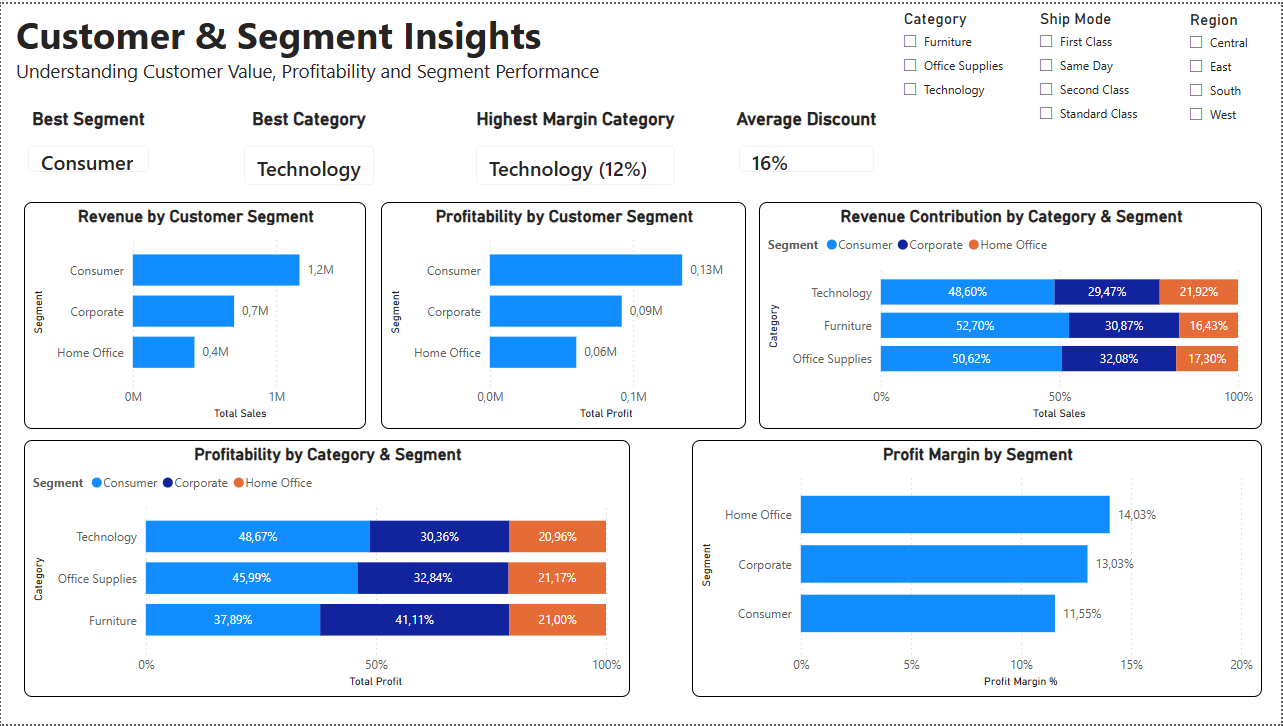

What the dashboard file says about the page in this screenshot:
{"tool":"powerbi","page":{"name":"Customer & Segment Insights","canvas":[1280,720],"ordinal":3},"visuals":[{"type":"textbox","box":[10,0,597.5,88.8],"z":0},{"type":"cardVisual","title":"Best Segment","fields":{"Data":["Min(SampleSuperstore.Segment)"]},"box":[10,103.8,155,81.2],"z":1000},{"type":"cardVisual","title":"Best Category","fields":{"Data":["Max(SampleSuperstore.Category)"]},"box":[226.2,103.8,163.8,93.8],"z":2000},{"type":"cardVisual","title":"Highest Margin Category","fields":{"Data":["SampleSuperstore.Highest Margin Category Display"]},"box":[457.5,103.8,233.8,93.8],"z":3000},{"type":"cardVisual","title":"Average Discount","fields":{"Data":["SampleSuperstore.Average Discount"]},"box":[721.2,103.8,168.8,81.2],"z":4000},{"type":"clusteredBarChart","title":"Revenue by Customer Segment","fields":{"Category":["SampleSuperstore.Segment"],"Y":["SampleSuperstore.Total Sales"]},"box":[22.5,197.5,342.5,227.5],"z":5000},{"type":"clusteredBarChart","title":"Profitability by Customer Segment","fields":{"Category":["SampleSuperstore.Segment"],"Y":["SampleSuperstore.Total Profit"]},"box":[380,197.5,365,227.5],"z":6000},{"type":"hundredPercentStackedBarChart","title":"Revenue Contribution by Category & Segment","fields":{"Category":["SampleSuperstore.Category"],"Y":["SampleSuperstore.Total Sales"],"Series":["SampleSuperstore.Segment"]},"box":[757.5,197.5,503.8,227.5],"z":7000},{"type":"hundredPercentStackedBarChart","title":"Profitability by Category & Segment","fields":{"Category":["SampleSuperstore.Category"],"Y":["SampleSuperstore.Total Profit"],"Series":["SampleSuperstore.Segment"]},"box":[22.5,436.2,606.2,256.2],"z":8000},{"type":"clusteredBarChart","title":"Profit Margin by Segment","fields":{"Category":["SampleSuperstore.Segment"],"Y":["SampleSuperstore.Profit Margin %"]},"box":[691.2,436.2,570,256.2],"z":9000},{"type":"slicer","fields":{"Values":["SampleSuperstore.Region"]},"box":[1176.2,1.2,103.8,132.5],"z":9001},{"type":"slicer","fields":{"Values":["SampleSuperstore.Category"]},"box":[890,0,153.8,103.8],"z":9002},{"type":"slicer","fields":{"Values":["SampleSuperstore.Ship Mode"]},"box":[1026.2,0,150,133.8],"z":9003}]}

Visuals, with their boxes in screenshot pixels (x1, y1, x2, y2), scaled from the page's 1280x720 canvas onto the 1283x726 screenshot:
textbox: (10,0,609,90)
"Best Segment" cardVisual: (10,105,165,187)
"Best Category" cardVisual: (227,105,391,199)
"Highest Margin Category" cardVisual: (459,105,693,199)
"Average Discount" cardVisual: (723,105,892,187)
"Revenue by Customer Segment" clusteredBarChart: (23,199,366,429)
"Profitability by Customer Segment" clusteredBarChart: (381,199,747,429)
"Revenue Contribution by Category & Segment" hundredPercentStackedBarChart: (759,199,1264,429)
"Profitability by Category & Segment" hundredPercentStackedBarChart: (23,440,630,698)
"Profit Margin by Segment" clusteredBarChart: (693,440,1264,698)
slicer - SampleSuperstore.Region: (1179,1,1282,135)
slicer - SampleSuperstore.Category: (892,0,1046,105)
slicer - SampleSuperstore.Ship Mode: (1029,0,1179,135)
